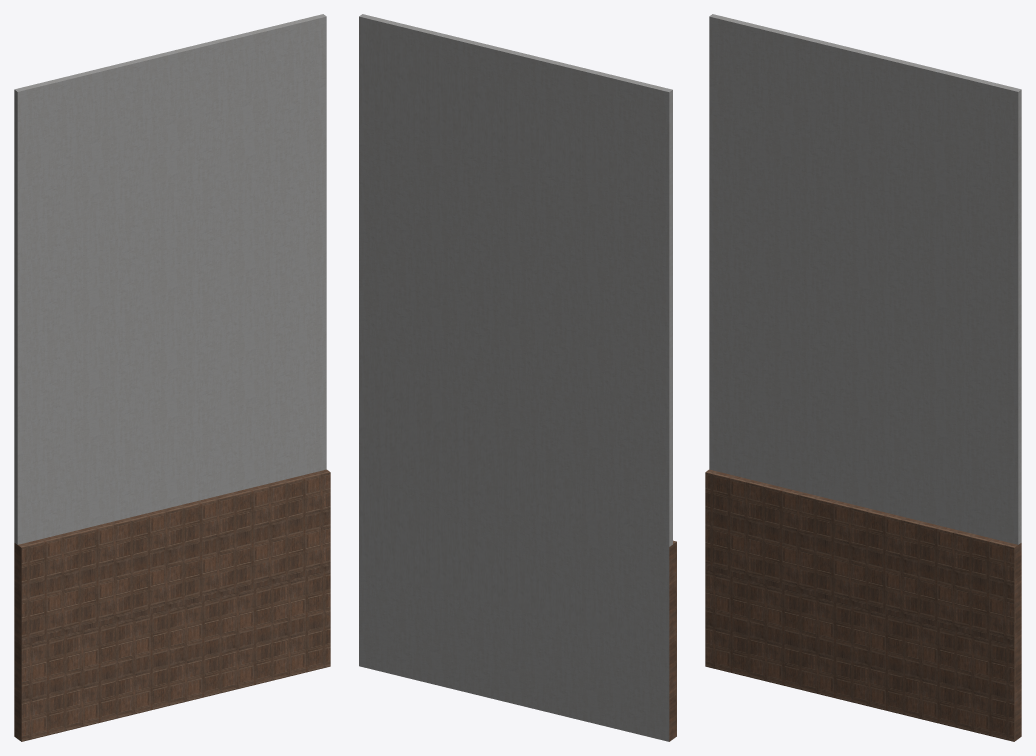
Rendered from 10x5Wall.fbx.
3 views of the same model, side by side, from view 1: azimuth 30°, elevation 25°; view 2: azimuth 150°, elevation 25°; view 3: azimuth 330°, elevation 25° (orthographic).
Parts seen in each view (by area): view 1: Wall10x10; view 2: Wall10x10; view 3: Wall10x10.
Boxes of the visible parts, x1,y1,x2,y2 form: Wall10x10: (14, 14, 330, 741); Wall10x10: (359, 14, 676, 741); Wall10x10: (705, 14, 1021, 741).
Bounding box in the file's own units: 500 × 1000 × 21.
Materials: 1 (1 with a texture image).
